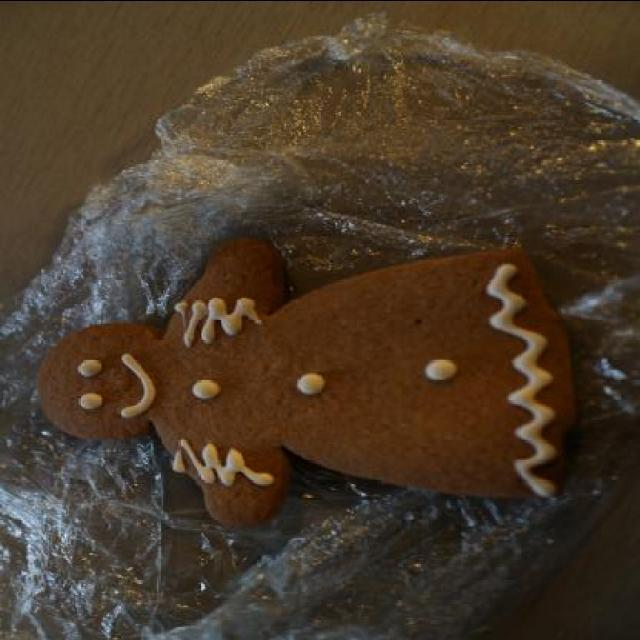Cookie: (34, 237, 580, 526)
